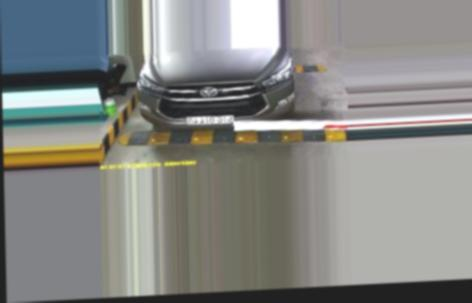License_Plate: (187, 112, 234, 128)
